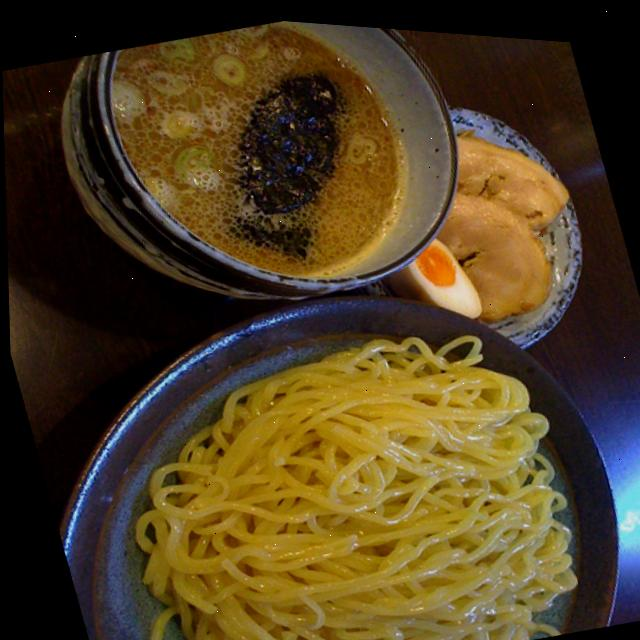面条主食: (0, 0, 606, 640)
